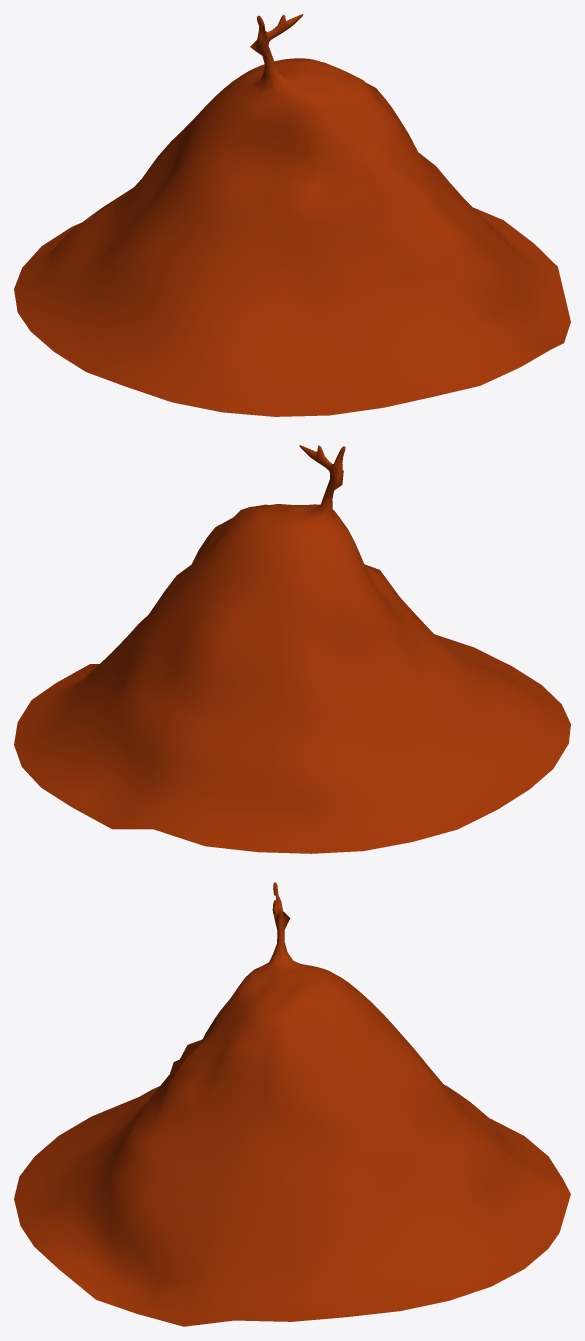
File: isoperiskeri_high.fbx
3 views of the same model, one above another, from view 1: azimuth 30°, elevation 25°; view 2: azimuth 150°, elevation 25°; view 3: azimuth 270°, elevation 25° (orthographic).
Parts seen in each view (by area): view 1: Cube; view 2: Cube; view 3: Cube.
Part boxes in pixels (bbox=[...]): Cube: bbox=[14, 14, 570, 416]; Cube: bbox=[14, 445, 570, 853]; Cube: bbox=[14, 882, 570, 1326].
Size of the model in its own units: 371 by 235 by 375.
